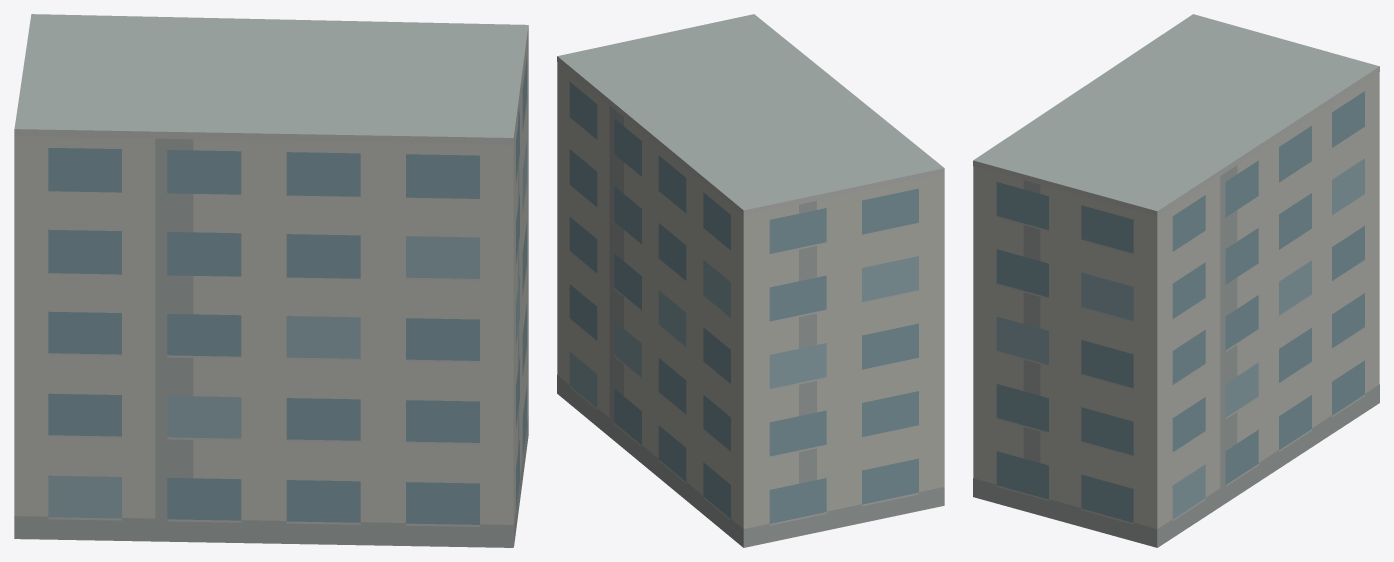
Rendered from survey-upis-32851095.glb.
3 renders of one model, left to right at view 1: azimuth 30°, elevation 25°; view 2: azimuth 150°, elevation 25°; view 3: azimuth 270°, elevation 25°, orthographic. The views are drawn at different scales.
Parts seen in each view (by area): view 1: survey-upis-32851095.tmp; view 2: survey-upis-32851095.tmp; view 3: survey-upis-32851095.tmp.
Part boxes in pixels (x1,y1,x2,y2): survey-upis-32851095.tmp: (14, 14, 528, 547); survey-upis-32851095.tmp: (557, 14, 944, 547); survey-upis-32851095.tmp: (973, 14, 1379, 547).
Size of the model in its own units: 17.92 by 14.25 by 15.61.
